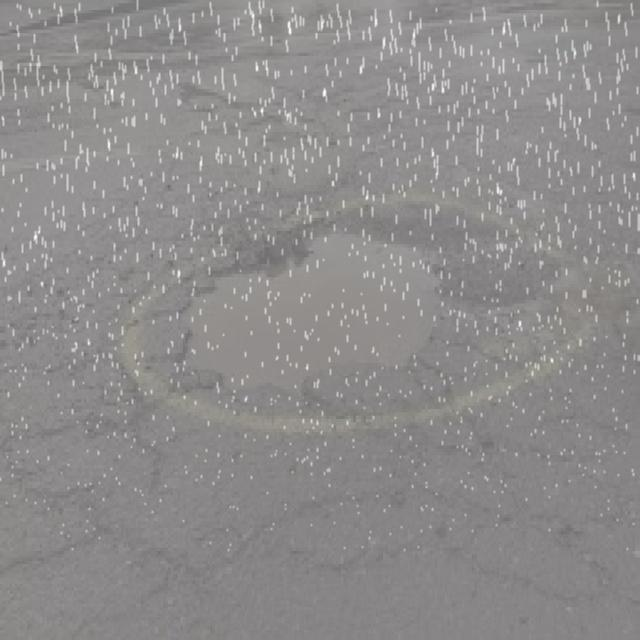Pothole: (129, 205, 524, 408)
